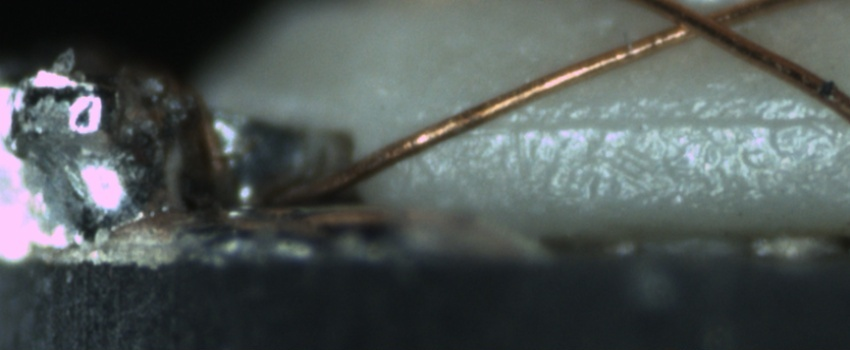CL: (650, 2, 741, 45)
DL: (465, 94, 850, 155)
